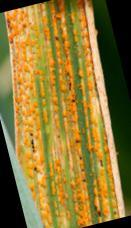Wheat: (8, 5, 93, 86), (15, 88, 57, 228)
